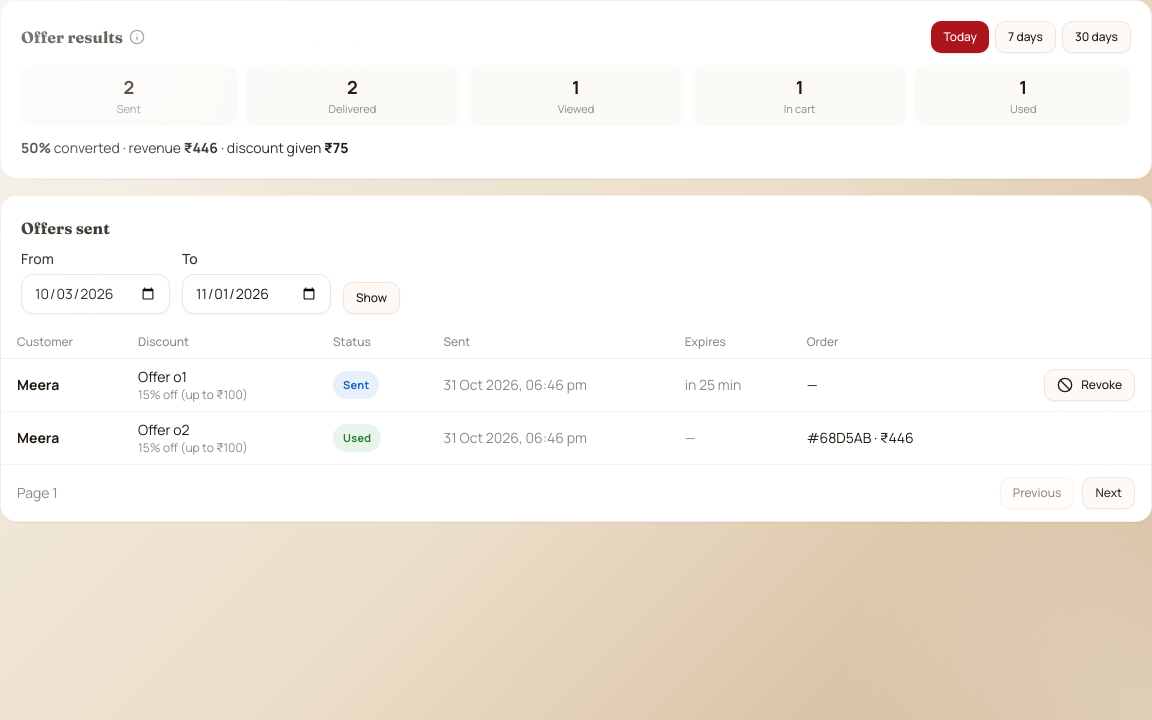
Test: funnel › renders each range from the metrics
Check: the list items read "2Sent", "2Delivered", "1Viewed", "1In cart", "1Used", in this order, box [21, 65, 237, 126]; [245, 65, 460, 126]; [468, 65, 684, 126]; [692, 65, 907, 126]; [915, 65, 1131, 126]
Check: the element with test id "funnel-today" shows "50% converted · revenue ₹446 · discount given ₹75", box [21, 65, 1131, 158]
Click the button "7 days".
click(1025, 37)  # box [995, 21, 1056, 53]
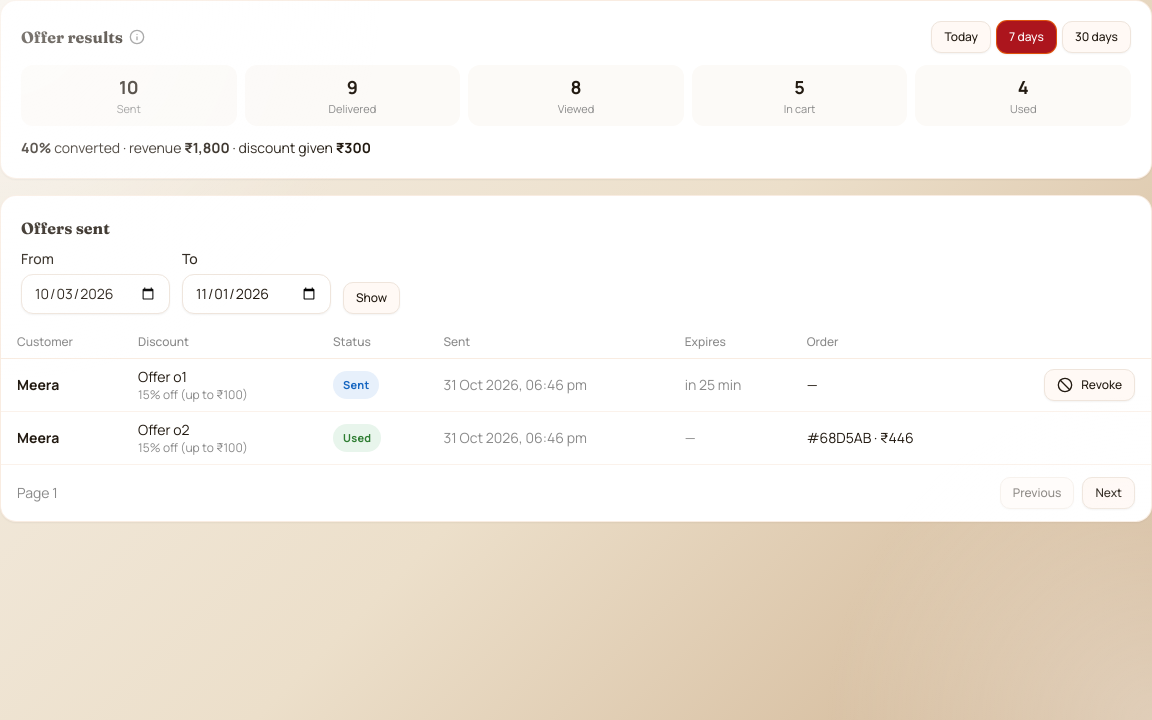
Check: the element with test id "funnel-7d" shows "40% converted · revenue ₹1,800 · discount given ₹300", box [21, 65, 1131, 158]
Click the button "30 days".
click(1096, 37)  # box [1062, 21, 1131, 53]
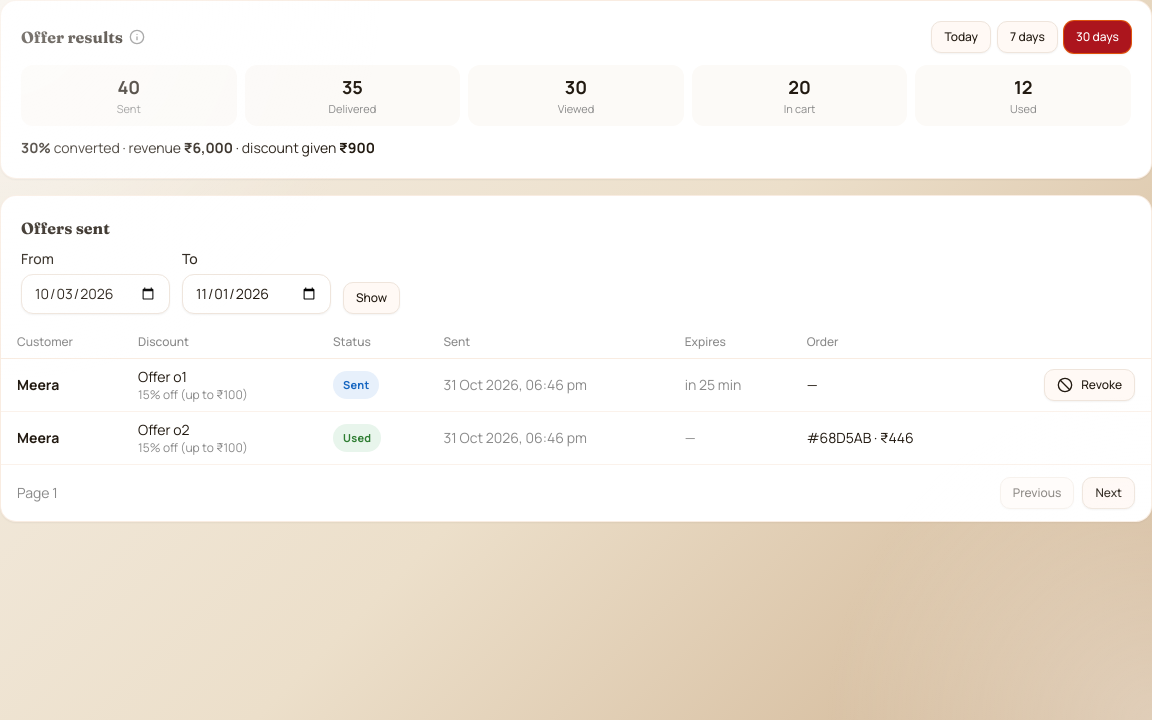
Check: the list item "40 Sent" is shown, box [21, 65, 237, 126]
Click the button named "How these are counted".
click(137, 37)  # box [129, 29, 145, 45]
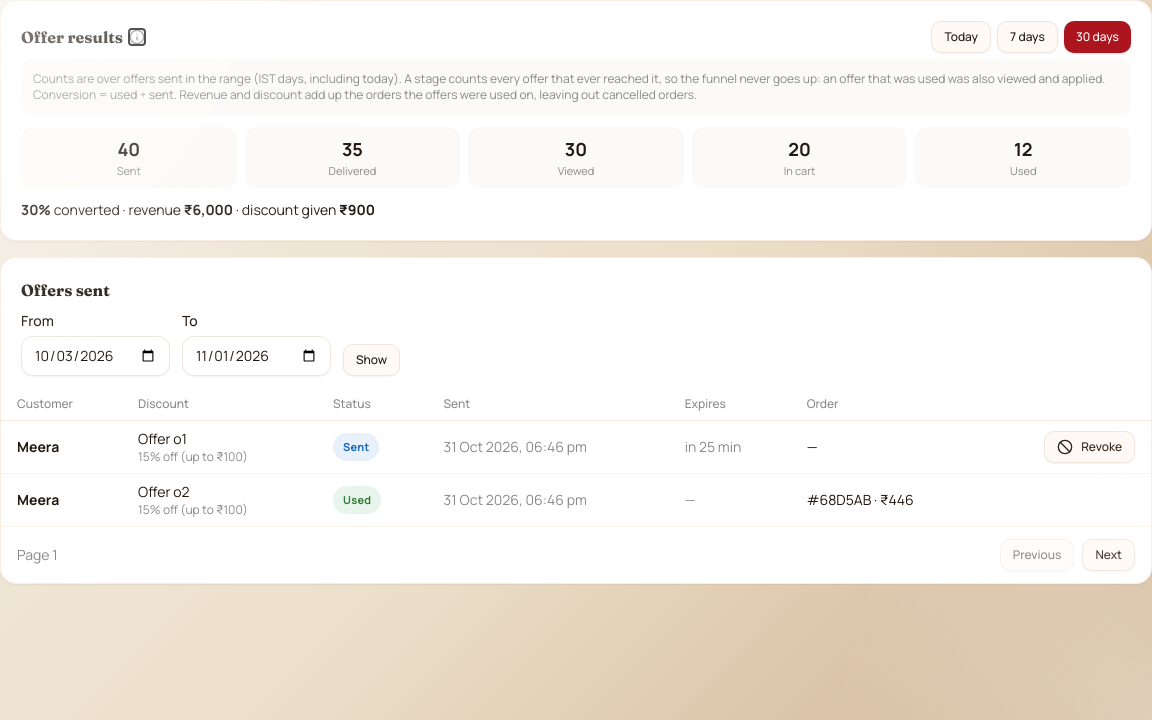
Check: the text "Counts are over offers sent in the range (IST days, including today). A stage counts every offer that ever reached it, so the funnel never goes up: an offer tha" is shown, box [33, 70, 1105, 103]
